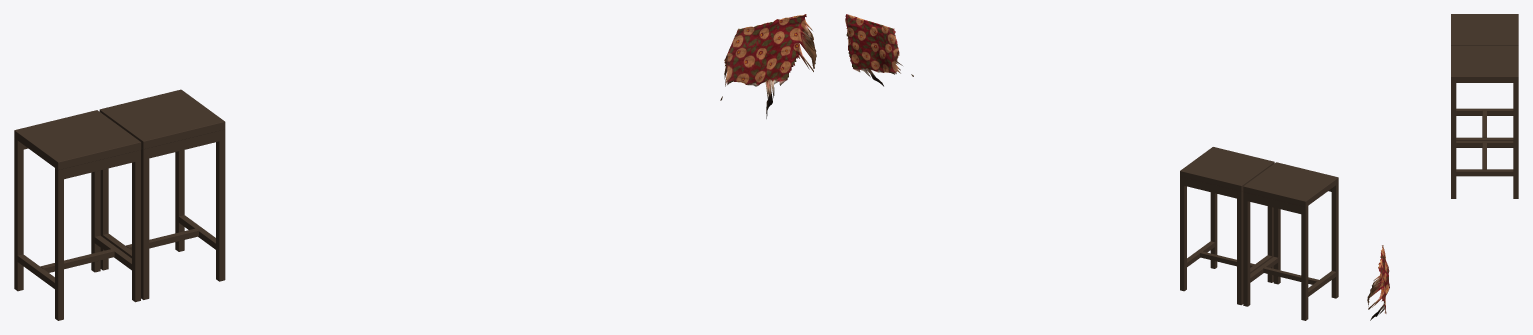
The picture shows the model from 3 angles, left to right: view 1: azimuth 30°, elevation 25°; view 2: azimuth 150°, elevation 25°; view 3: azimuth 270°, elevation 25°; orthographic projection. The views are drawn at different scales.
Visible parts, largest first — view 1: source_entry_cloth_observed_front_only, source_small_table_rear_top, source_small_table_front_top, source_small_table_front_leg_1_-1, source_small_table_rear_leg_-1_1, source_small_table_front_leg_-1_-1, source_small_table_rear_leg_-1_-1, source_small_table_rear_leg_1_-1, source_small_table_rear_leg_1_1, source_small_table_front_leg_1_1, source_small_table_rear_under_top_apron_-1, source_small_table_front_under_top_apron_-1 (+2 smaller); view 2: source_small_table_rear_top, source_entry_cloth_observed_front_only, source_small_table_front_top, source_small_table_rear_leg_-1_1, source_small_table_rear_leg_1_1, source_small_table_rear_leg_-1_-1, source_small_table_front_leg_-1_1, source_small_table_front_leg_1_1, source_small_table_rear_leg_1_-1, source_small_table_front_leg_1_-1, source_small_table_rear_under_top_apron_1, source_small_table_front_under_top_apron_1 (+1 smaller); view 3: source_small_table_front_top, source_small_table_rear_top, source_entry_cloth_observed_front_only, source_small_table_front_leg_1_1, source_small_table_front_leg_1_-1, source_small_table_front_lower_end_crossrail_1, source_small_table_front_lower_end_crossrail_-1, source_small_table_rear_lower_end_crossrail_-1, source_small_table_rear_lower_end_crossrail_1, source_small_table_front_low_longitudinal_brace, source_small_table_rear_low_longitudinal_brace.
Boxes of the visible parts, x1,y1,x2,y2 form: source_entry_cloth_observed_front_only: (720,14,816,118); source_small_table_rear_top: (14,110,141,170); source_small_table_front_top: (99,89,225,149); source_small_table_front_leg_1_-1: (216,129,225,281); source_small_table_rear_leg_-1_1: (14,138,23,291); source_small_table_front_leg_-1_-1: (141,148,149,299); source_small_table_rear_leg_-1_-1: (55,168,63,320); source_small_table_rear_leg_1_-1: (132,150,140,302); source_small_table_rear_leg_1_1: (91,170,100,272); source_small_table_front_leg_1_1: (175,150,184,251); source_small_table_rear_under_top_apron_-1: (64,151,135,179); source_small_table_front_under_top_apron_-1: (149,131,219,158); source_small_table_rear_top: (1243,162,1338,207); source_entry_cloth_observed_front_only: (845,14,913,86); source_small_table_front_top: (1180,147,1274,191); source_small_table_rear_leg_-1_1: (1301,206,1308,320); source_small_table_rear_leg_1_1: (1243,192,1250,306); source_small_table_rear_leg_-1_-1: (1331,183,1338,298); source_small_table_front_leg_-1_1: (1237,191,1243,305); source_small_table_front_leg_1_1: (1180,177,1186,291); source_small_table_rear_leg_1_-1: (1273,207,1280,284); source_small_table_front_leg_1_-1: (1210,192,1217,268); source_small_table_rear_under_top_apron_1: (1247,193,1301,213); source_small_table_front_under_top_apron_1: (1184,178,1236,198); source_small_table_front_top: (1451,46,1518,82); source_small_table_rear_top: (1451,14,1518,45); source_entry_cloth_observed_front_only: (1367,245,1389,320); source_small_table_front_leg_1_1: (1513,82,1518,198); source_small_table_front_leg_1_-1: (1451,82,1456,198); source_small_table_front_lower_end_crossrail_1: (1456,169,1513,176); source_small_table_front_lower_end_crossrail_-1: (1456,140,1513,147); source_small_table_rear_lower_end_crossrail_-1: (1456,108,1513,115); source_small_table_rear_lower_end_crossrail_1: (1456,137,1513,140); source_small_table_front_low_longitudinal_brace: (1482,142,1486,169); source_small_table_rear_low_longitudinal_brace: (1482,110,1486,137).
Size of the model in its own units: 3.68 by 0.8501 by 0.8882.
Materials: 2 (1 with a texture image).
